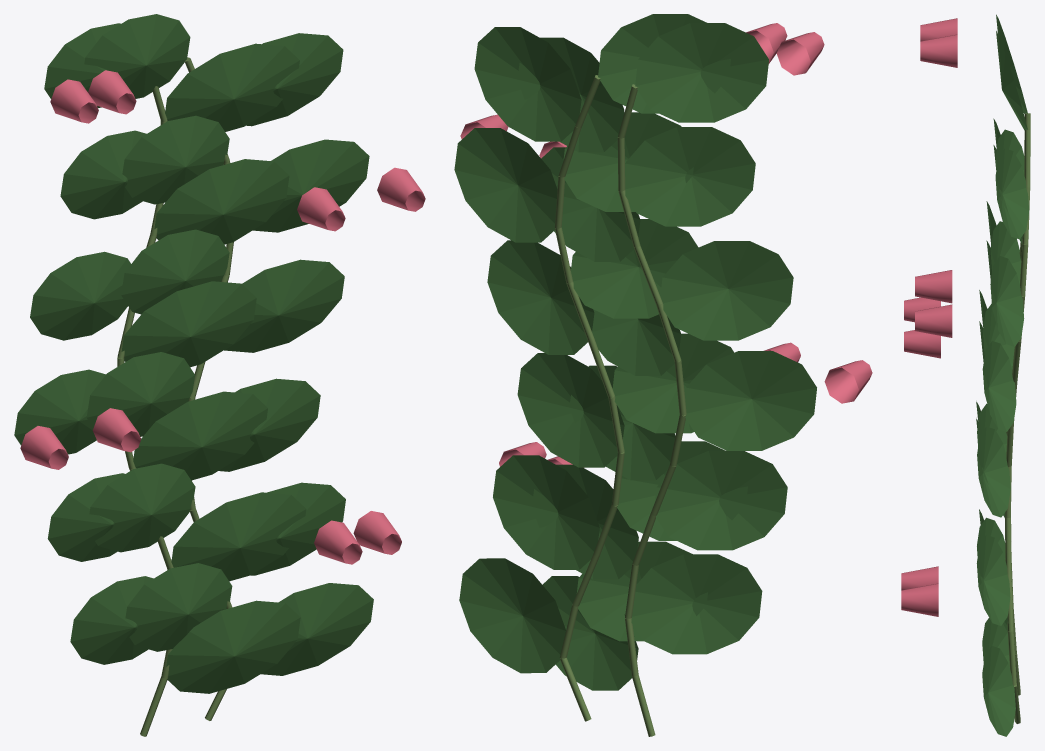
The model's file is quisqualis-indica.glb.
3 renders of one model, left to right at view 1: azimuth 30°, elevation 25°; view 2: azimuth 150°, elevation 25°; view 3: azimuth 270°, elevation 25°, orthographic. The views are drawn at different scales.
Parts seen in each view (by area): view 1: Climber species leaves, Species flowers / bracts, Climber species stems; view 2: Climber species leaves, Climber species stems, Species flowers / bracts; view 3: Climber species leaves, Species flowers / bracts, Climber species stems.
Part boxes in pixels (x1,y1,x2,y2): Climber species leaves: [14, 14, 373, 693]; Species flowers / bracts: [20, 70, 425, 564]; Climber species stems: [117, 57, 233, 736]; Climber species leaves: [454, 14, 816, 690]; Climber species stems: [554, 75, 686, 736]; Species flowers / bracts: [460, 23, 872, 467]; Climber species leaves: [976, 14, 1029, 736]; Species flowers / bracts: [901, 18, 957, 616]; Climber species stems: [1005, 113, 1030, 723].
Size of the model in its own units: 0.4922 by 0.865 by 0.1564.
